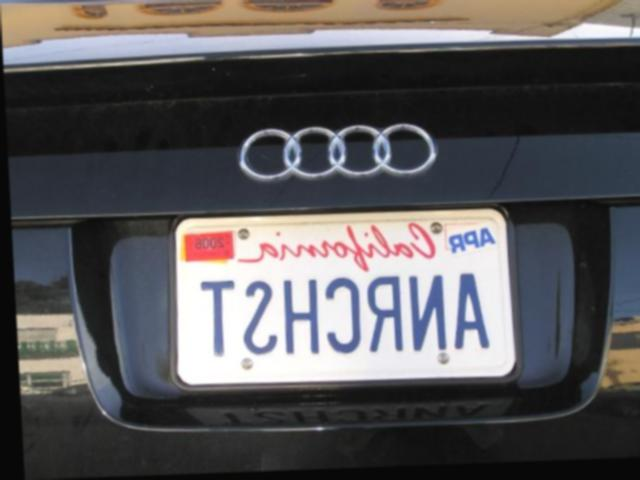License_Plate: (139, 185, 535, 417)
